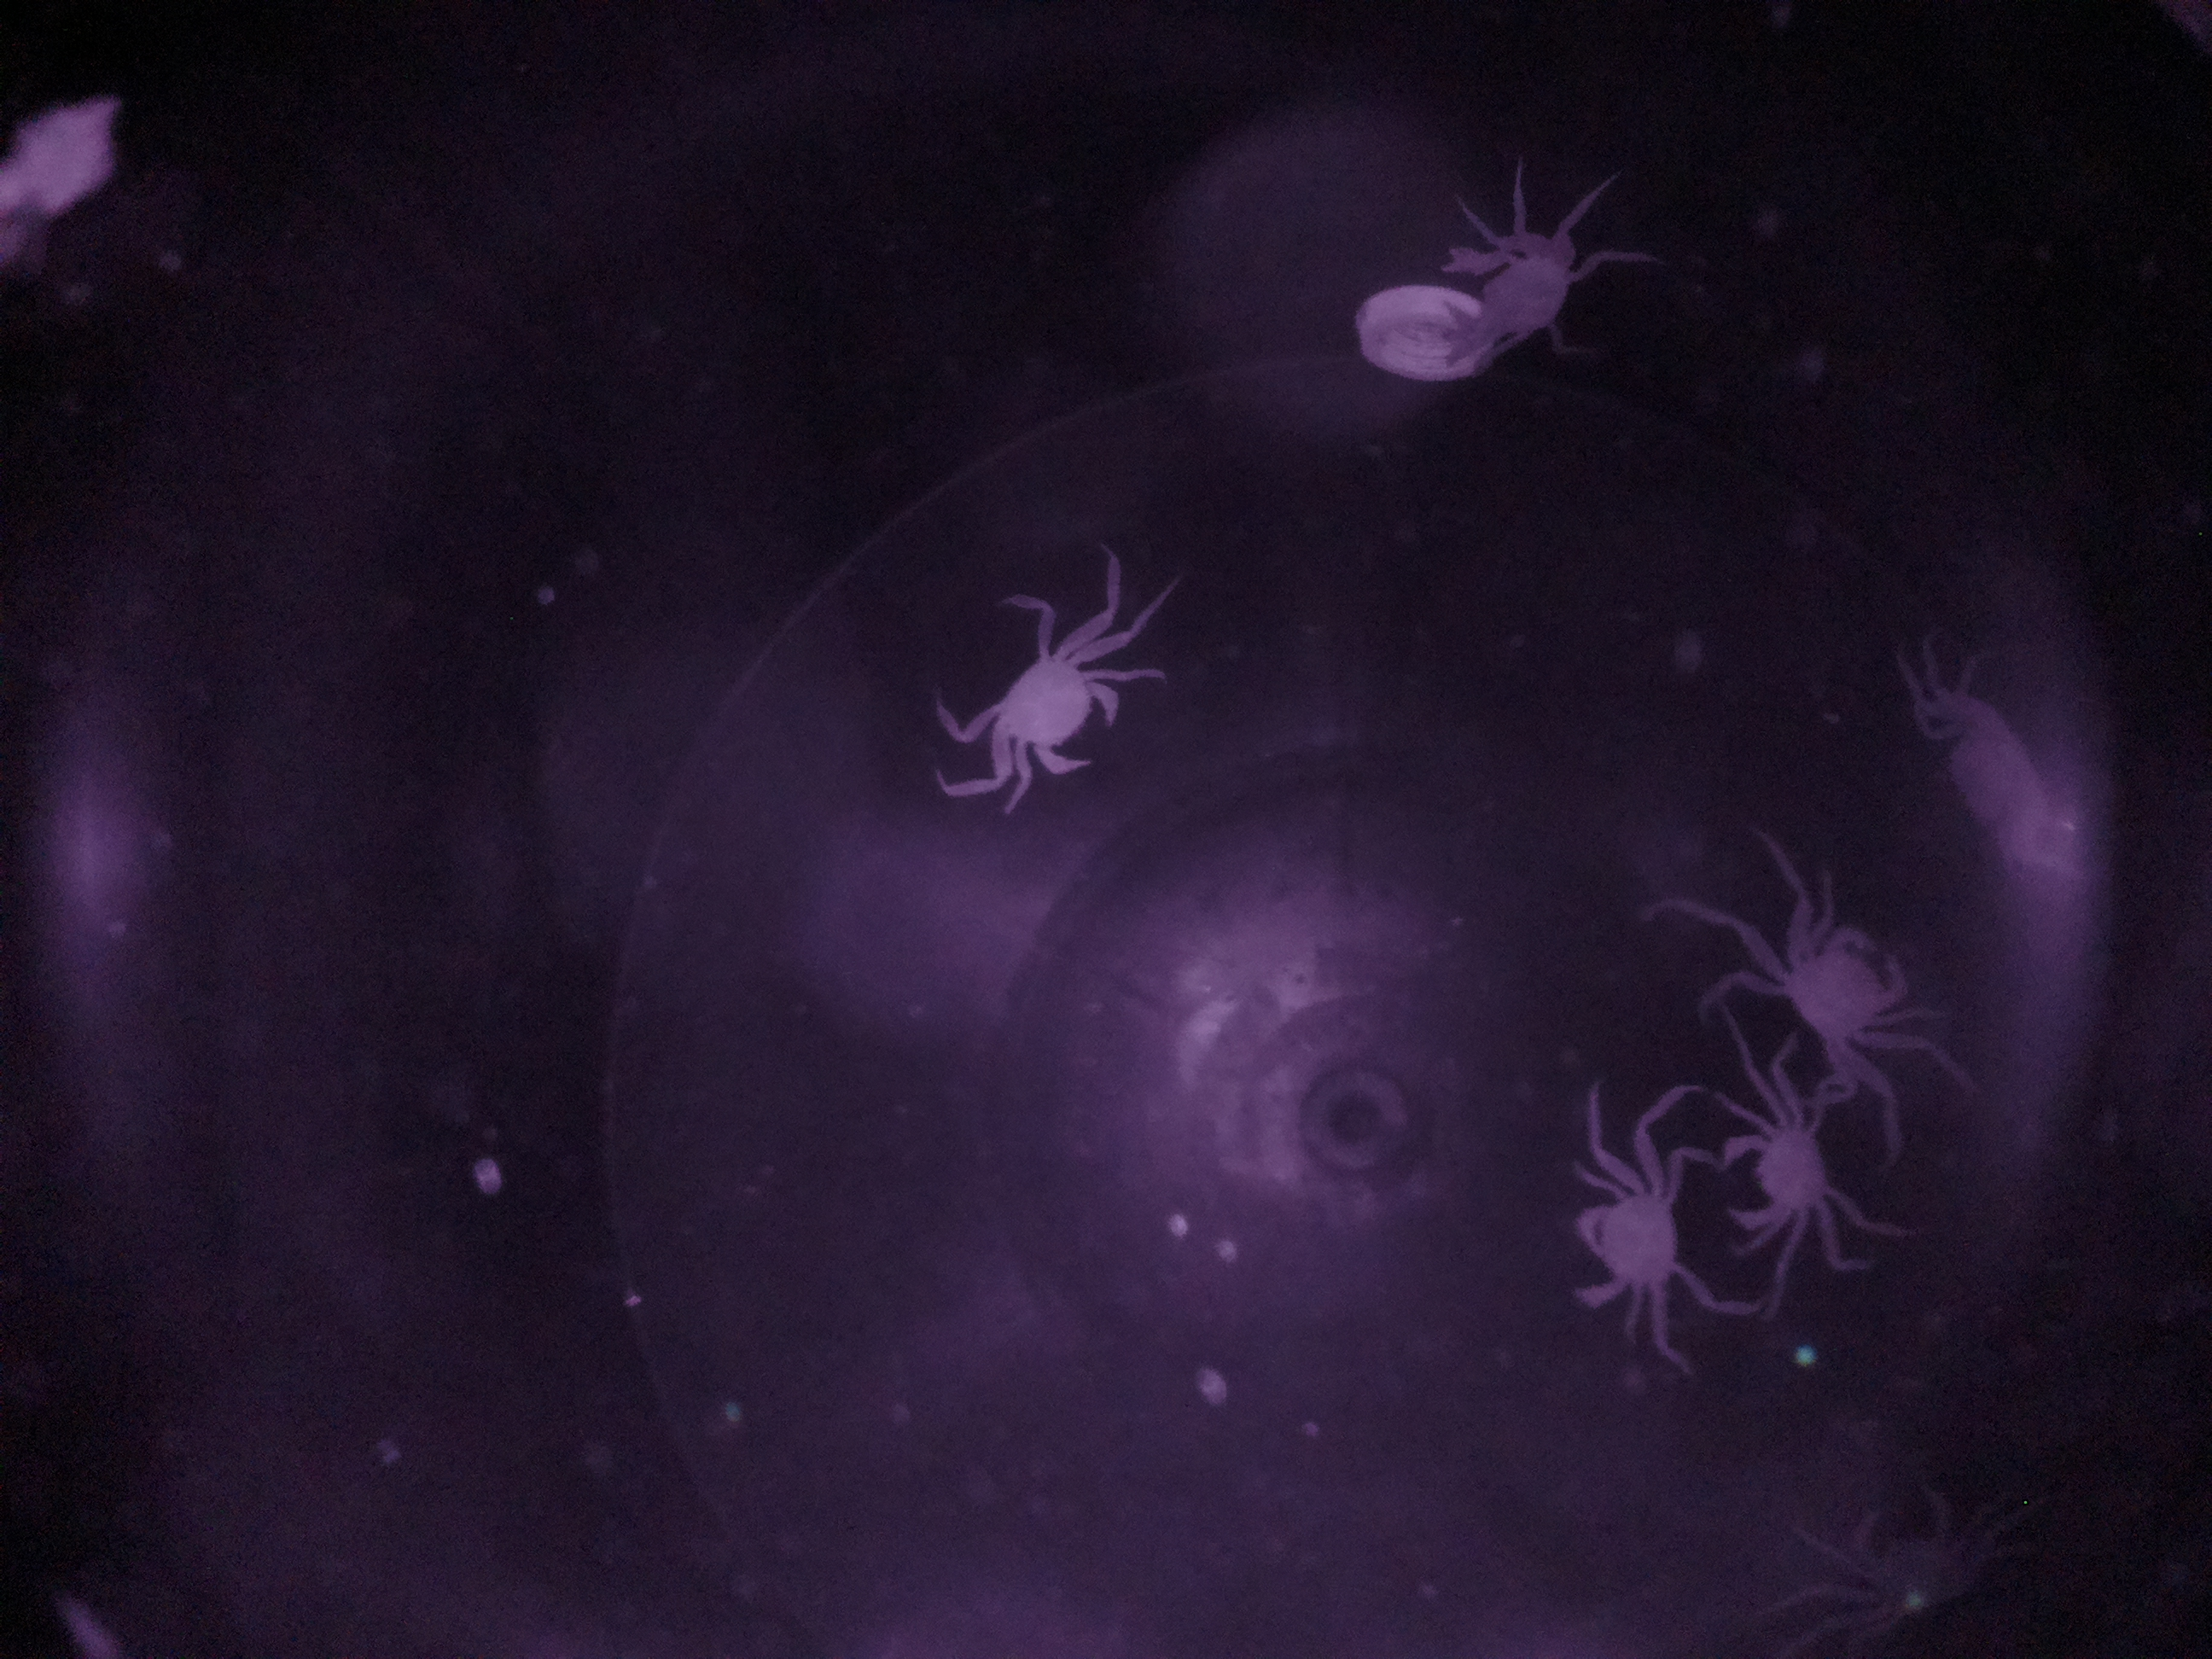Crab: (953, 610, 1139, 800), (1761, 892, 1932, 1089), (1555, 1131, 1714, 1330), (1726, 1089, 1855, 1272)
